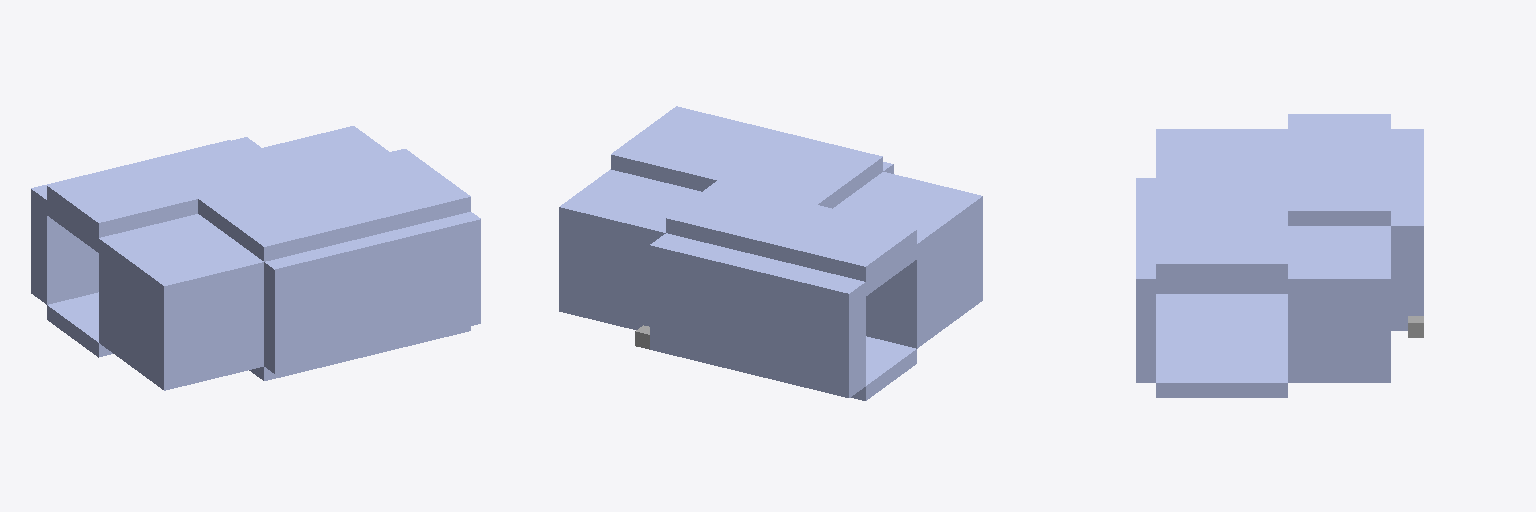
Rendered from Room3_Vent_Primitives.obj.
3 renders of one model, left to right at view 1: azimuth 30°, elevation 25°; view 2: azimuth 150°, elevation 25°; view 3: azimuth 270°, elevation 25°, orthographic.
Parts seen in each view (by area): view 1: Room3_Vent_Primitives; view 2: Room3_Vent_Primitives; view 3: Room3_Vent_Primitives.
Boxes of the visible parts, x1,y1,x2,y2 form: Room3_Vent_Primitives: [31, 126, 480, 390]; Room3_Vent_Primitives: [559, 106, 982, 400]; Room3_Vent_Primitives: [1136, 114, 1423, 397].
Bounding box in the file's own units: 21.5 × 9 × 17.5.